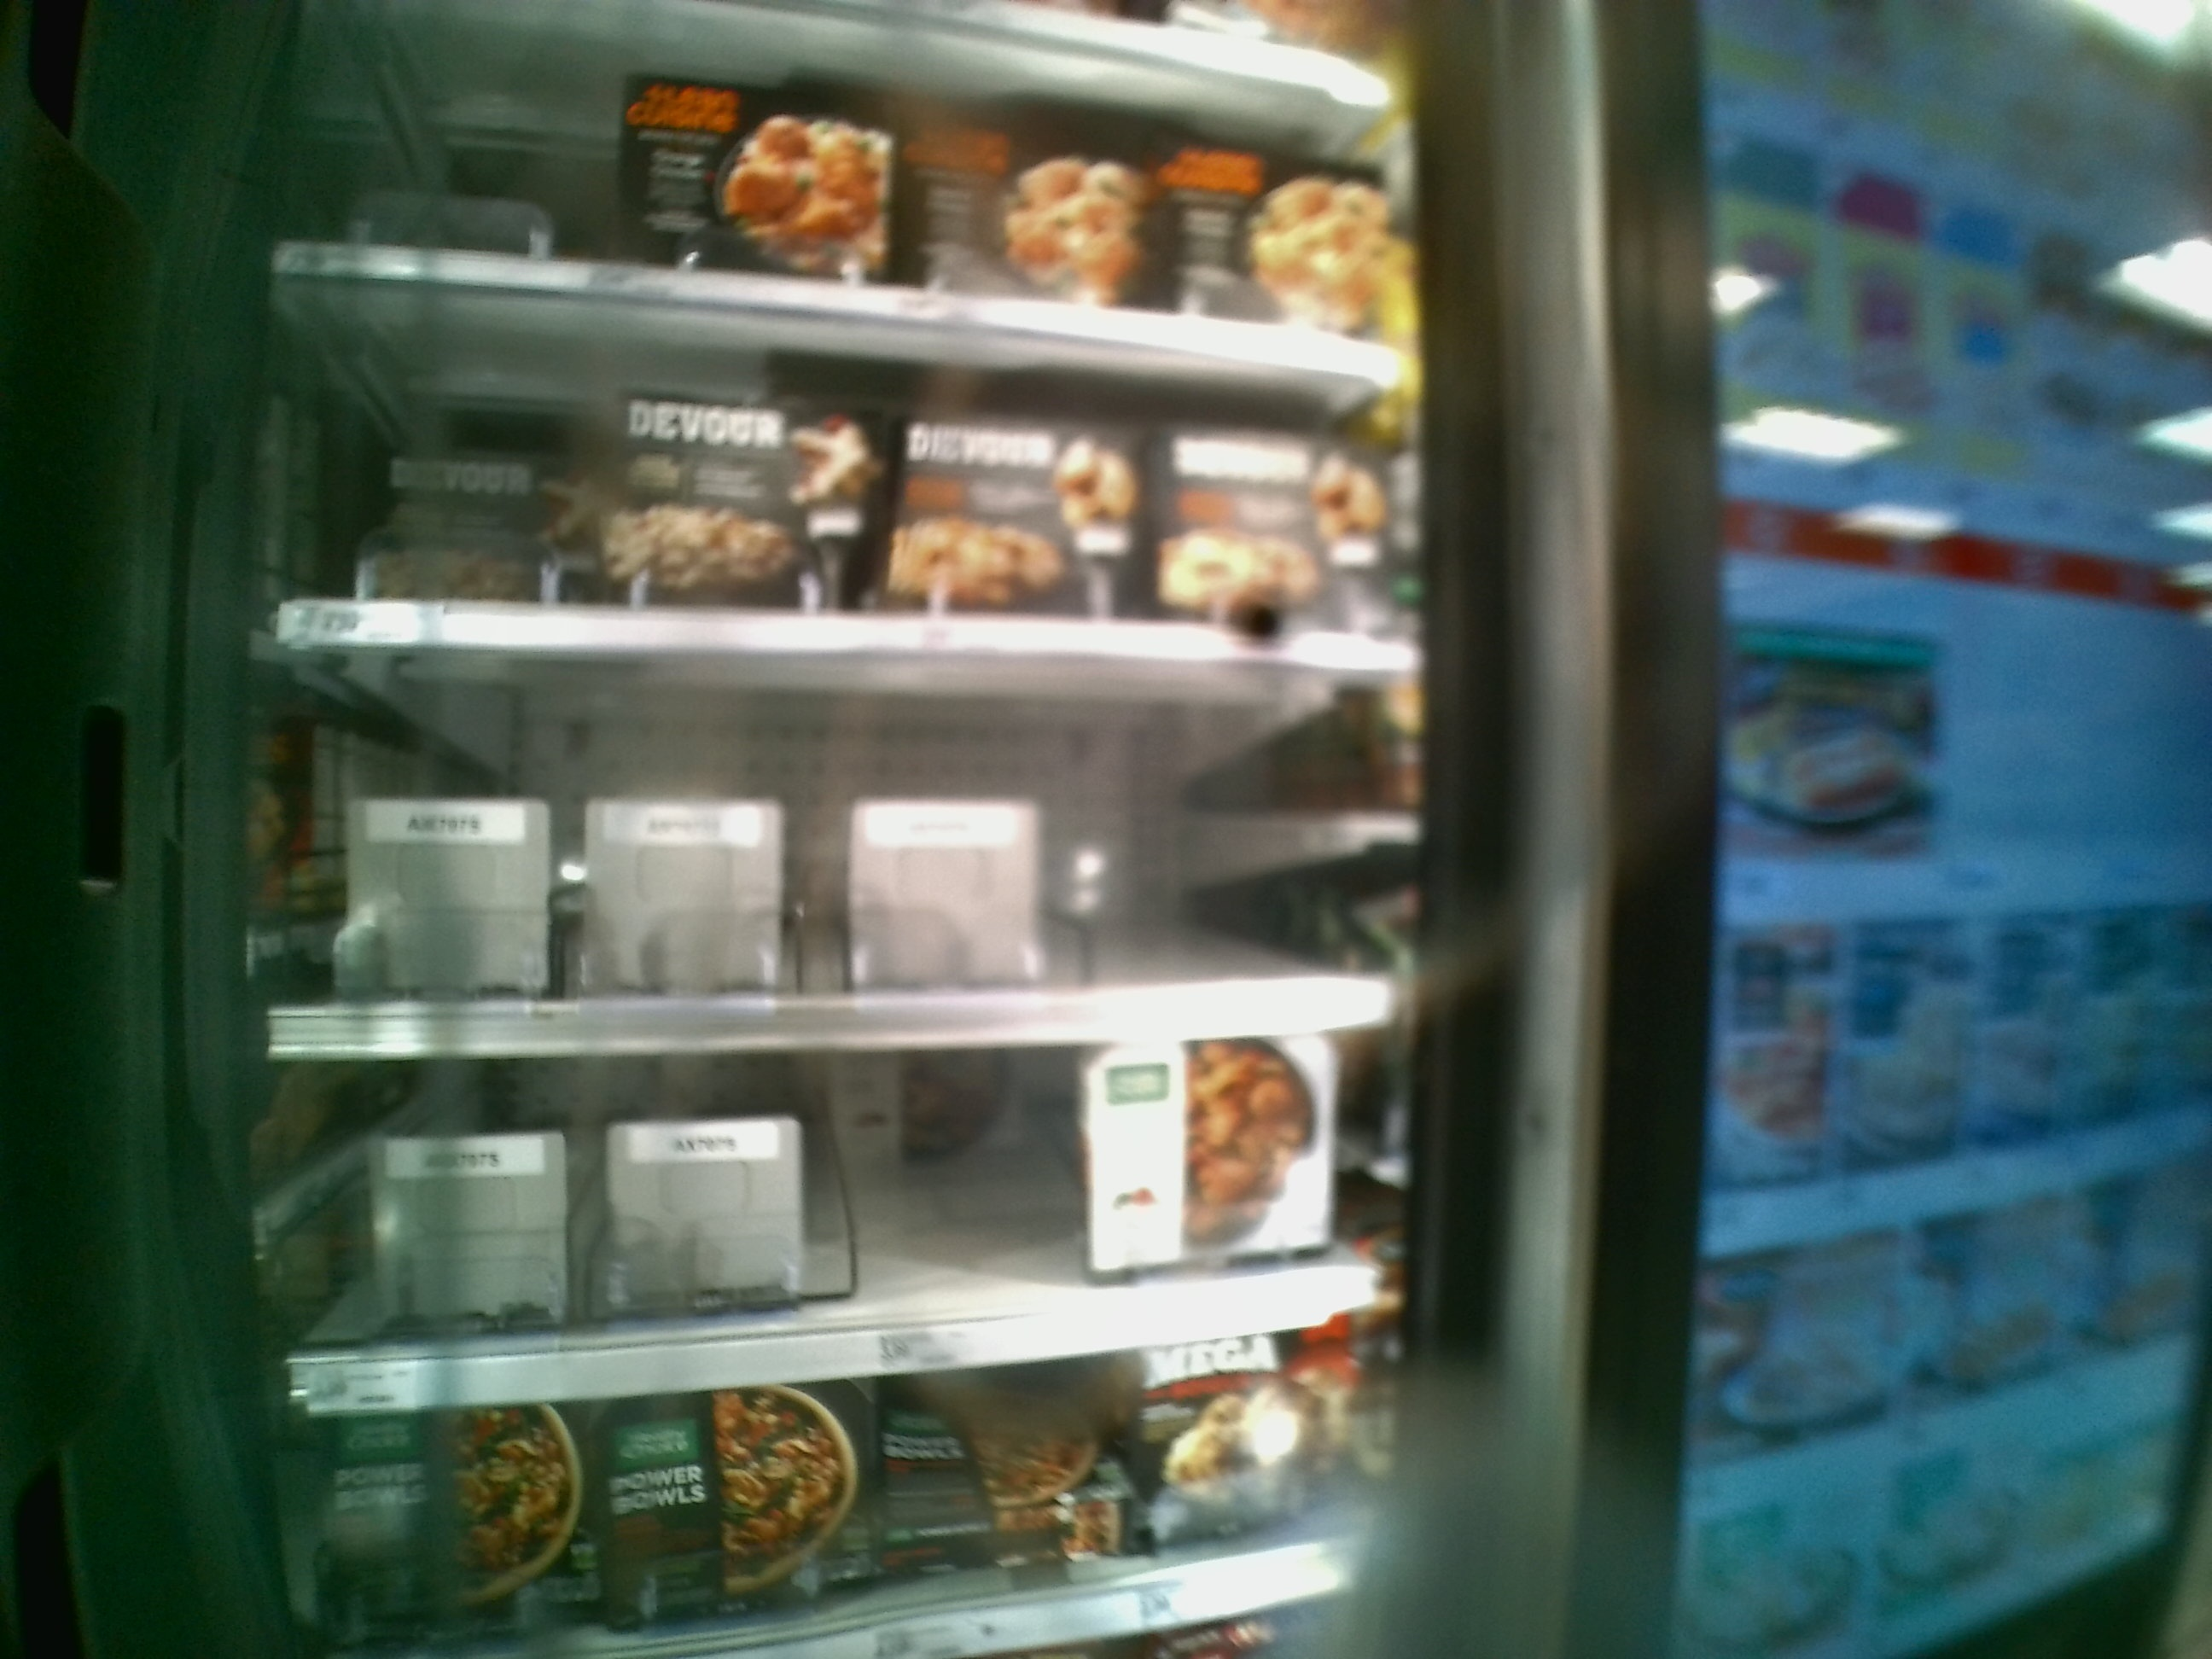Shelf: (268, 641, 1411, 1058), (258, 267, 1418, 667), (256, 1065, 1433, 1401)
